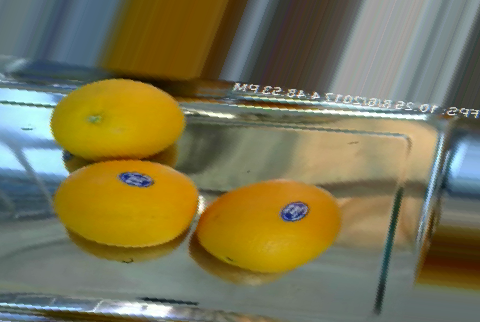Orange: (197, 179, 344, 272), (52, 159, 199, 247), (49, 77, 184, 162)
